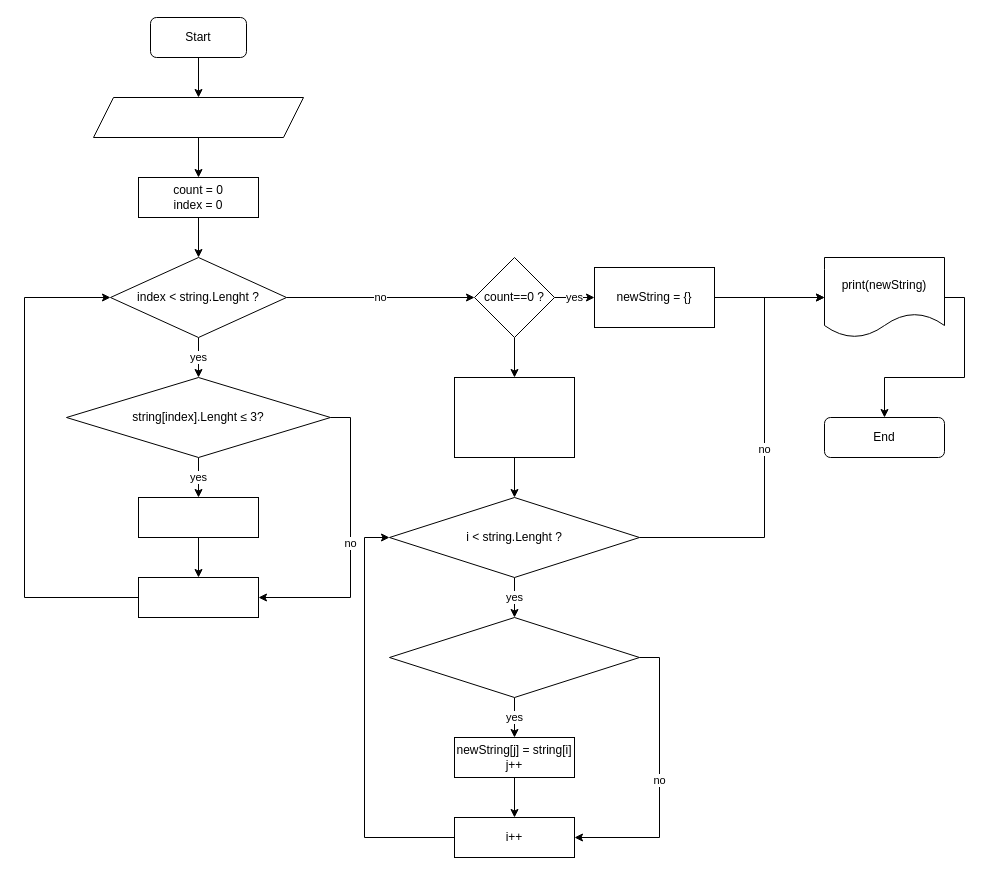
This 990x875 diagram has some shape labels left out. The shapes that lost their labels are listed below. From the top down, each one's box as (x1, y1, x2, y2) in pixels, then its label:
(92, 96, 304, 138): string = {hello, 2, world, :-) }
(454, 376, 574, 458): newString = [count] j = 0 i = 0
(138, 496, 258, 538): count++
(138, 576, 258, 618): index++
(388, 616, 640, 698): string[index].Lenght ≤ 3 && j < count ?
